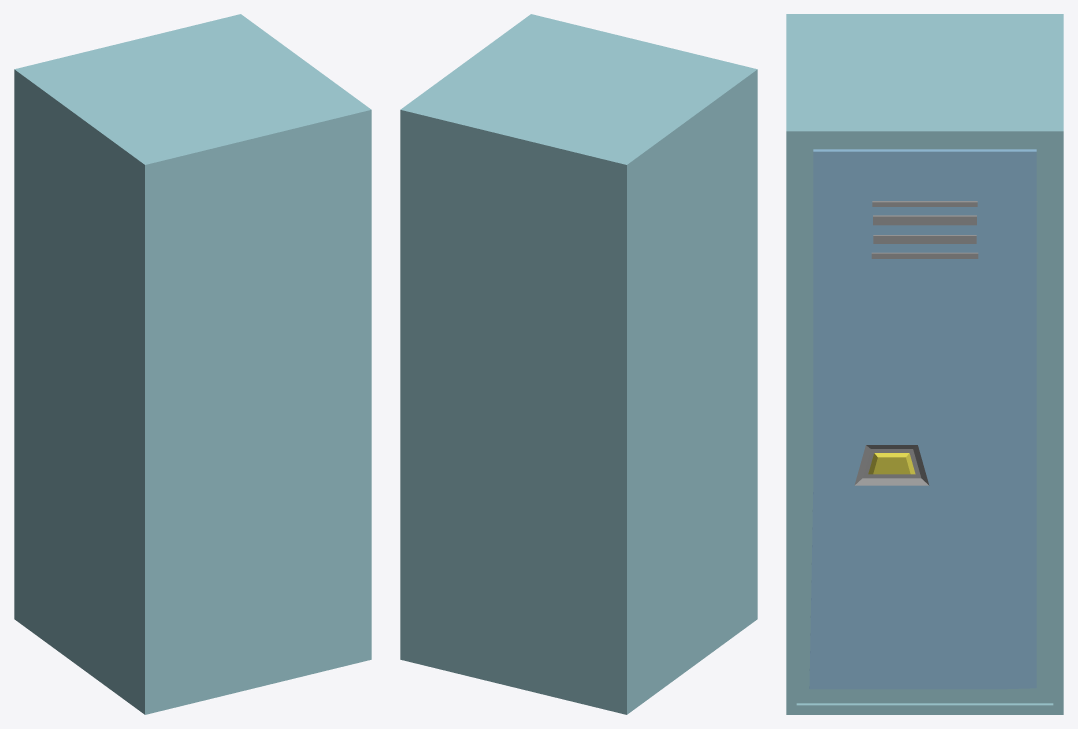
File: LOCKER.fbx
3 renders of one model, left to right at view 1: azimuth 30°, elevation 25°; view 2: azimuth 150°, elevation 25°; view 3: azimuth 270°, elevation 25°, orthographic. The views are drawn at different scales.
Visible parts, largest first — view 1: Cube.007; view 2: Cube.007; view 3: Cube.007.
Boxes of the visible parts, left/top/right/bottom form: Cube.007: left=14, top=14, right=371, bottom=714; Cube.007: left=400, top=14, right=757, bottom=714; Cube.007: left=786, top=14, right=1063, bottom=714.
Size of the model in its own units: 72.07 by 165 by 71.04.
